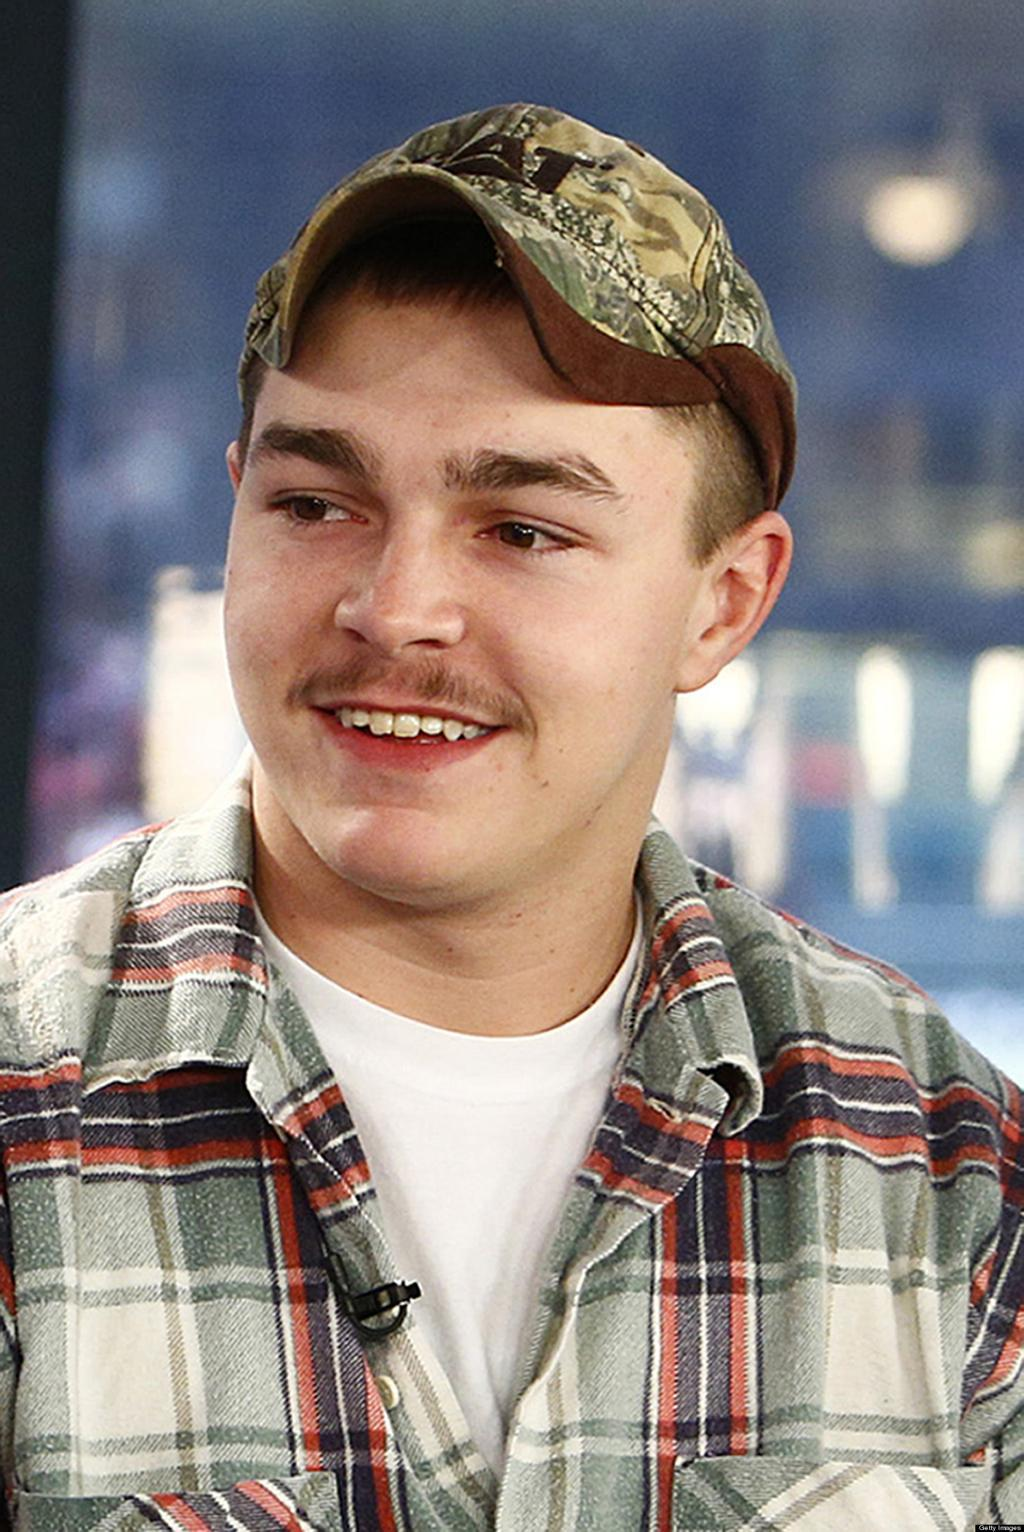face: (238, 256, 654, 855)
